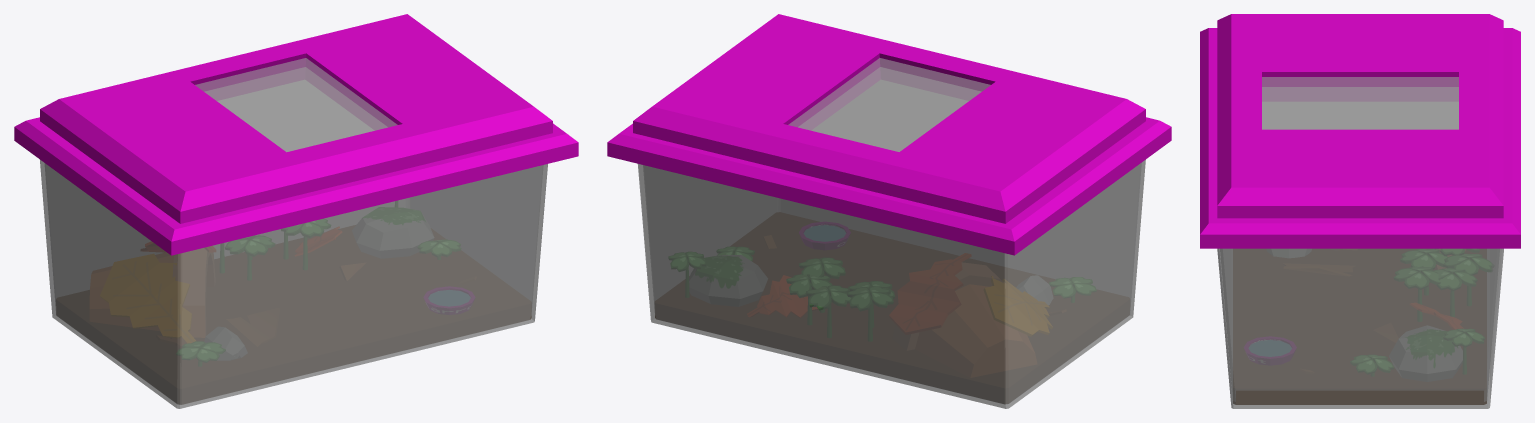
The model's file is snal tank.fbx.
3 renders of one model, left to right at view 1: azimuth 30°, elevation 25°; view 2: azimuth 150°, elevation 25°; view 3: azimuth 270°, elevation 25°, orthographic. The views are drawn at different scales.
Visible parts, largest first — view 1: tank_lid, glass, ground, leafs, flower_pot, pepble, colvers, bolw, pepble1, clovers; view 2: tank_lid, glass, ground, leafs, flower_pot, colvers, pepble, bolw, pepble1; view 3: tank_lid, glass, ground, colvers, pepble, bolw, leafs, clovers, pepble1.
Boxes of the visible parts, bbox=[...] form: tank_lid: bbox=[14, 14, 578, 255]; glass: bbox=[39, 159, 547, 408]; ground: bbox=[56, 225, 531, 403]; leafs: bbox=[100, 227, 475, 347]; flower_pot: bbox=[90, 248, 214, 337]; pepble: bbox=[352, 207, 433, 257]; colvers: bbox=[177, 201, 397, 365]; bolw: bbox=[424, 287, 474, 314]; pepble1: bbox=[205, 327, 246, 359]; clovers: bbox=[418, 240, 460, 259]; tank_lid: bbox=[607, 14, 1171, 255]; glass: bbox=[637, 159, 1145, 408]; ground: bbox=[655, 212, 1129, 403]; leafs: bbox=[747, 235, 1065, 335]; flower_pot: bbox=[893, 263, 1036, 377]; colvers: bbox=[669, 252, 1096, 340]; pepble: bbox=[689, 255, 767, 306]; bolw: bbox=[799, 222, 850, 249]; pepble1: bbox=[1016, 276, 1052, 304]; tank_lid: bbox=[1200, 14, 1520, 248]; glass: bbox=[1217, 248, 1503, 408]; ground: bbox=[1233, 249, 1486, 404]; colvers: bbox=[1394, 249, 1490, 373]; pepble: bbox=[1389, 326, 1462, 381]; bolw: bbox=[1244, 337, 1296, 364]; leafs: bbox=[1284, 249, 1462, 373]; clovers: bbox=[1351, 355, 1393, 375]; pepble1: bbox=[1267, 249, 1311, 257].
Bounding box in the file's own units: 7.26 × 3.68 × 4.85.
